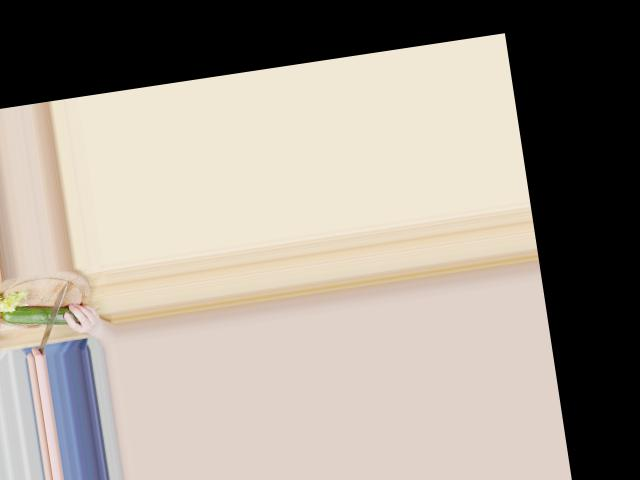cucumber: (0, 298, 79, 334)
